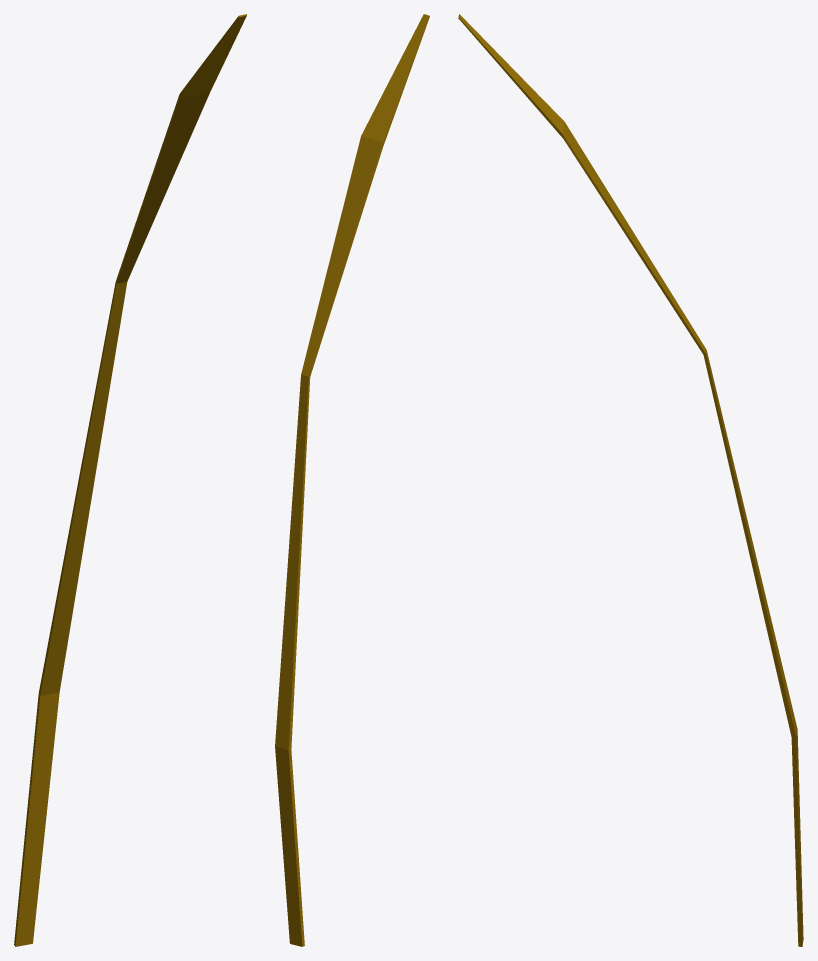
File: Vegetation_Modular_Rush_Frond_02.fbx
3 views of the same model, side by side, from view 1: azimuth 30°, elevation 25°; view 2: azimuth 150°, elevation 25°; view 3: azimuth 270°, elevation 25° (orthographic). The views are drawn at different scales.
Visible parts, largest first — view 1: Vegetation_Modular_Rush_Frond_02; view 2: Vegetation_Modular_Rush_Frond_02; view 3: Vegetation_Modular_Rush_Frond_02.
Boxes of the visible parts, <box> form: Vegetation_Modular_Rush_Frond_02: <box>14,14,246,946</box>; Vegetation_Modular_Rush_Frond_02: <box>275,14,429,946</box>; Vegetation_Modular_Rush_Frond_02: <box>458,14,803,946</box>.
Size of the model in its own units: 3.56 by 59.44 by 19.81.
